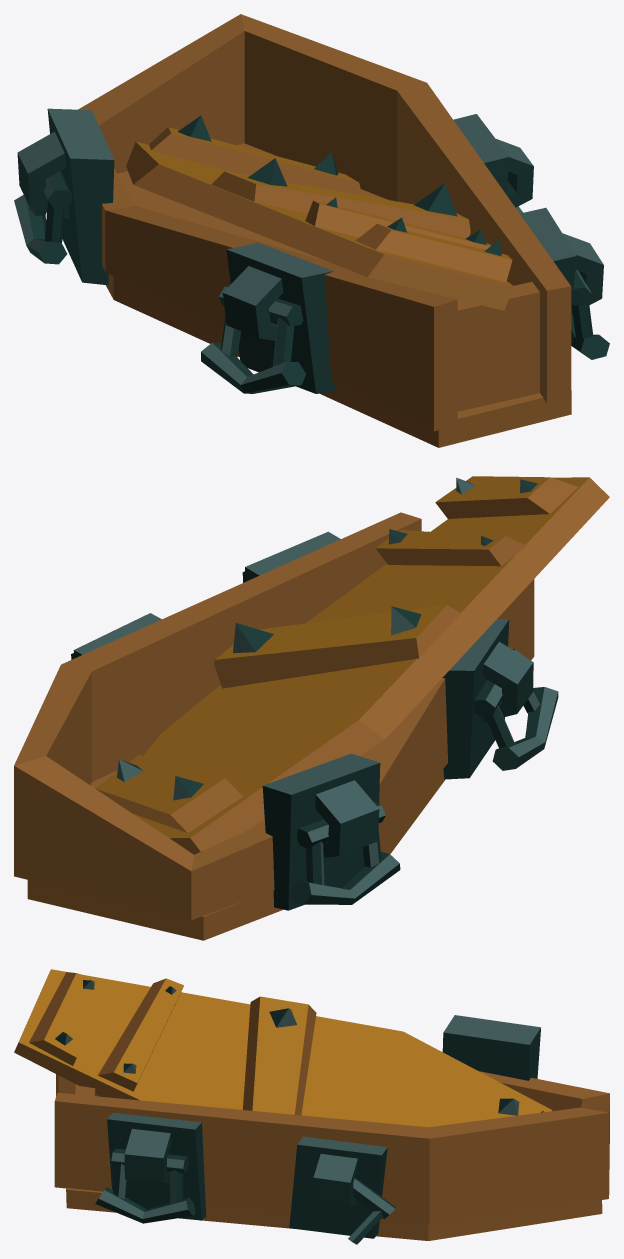
The model's file is caixao_dois_001.fbx.
3 renders of one model, top to bottom at view 1: azimuth 30°, elevation 25°; view 2: azimuth 150°, elevation 25°; view 3: azimuth 270°, elevation 25°, orthographic. The views are drawn at different scales.
Visible parts, largest first — view 1: caixao_dois.001; view 2: caixao_dois.001; view 3: caixao_dois.001.
Part boxes in pixels (x1=…): caixao_dois.001: x1=14, y1=14, x2=609, y2=447; caixao_dois.001: x1=14, y1=476, x2=609, y2=940; caixao_dois.001: x1=14, y1=969, x2=609, y2=1244.
Bounding box in the file's own units: 224 × 119 × 363.
